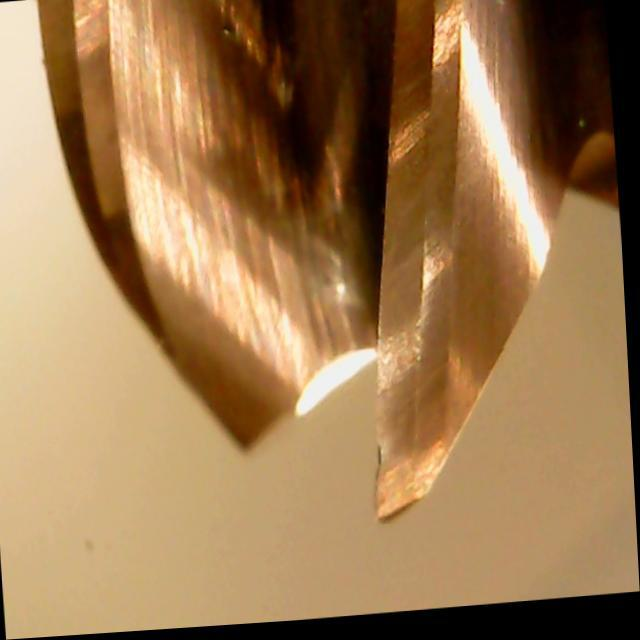Tool-wear-class-1: (351, 347, 477, 536)
